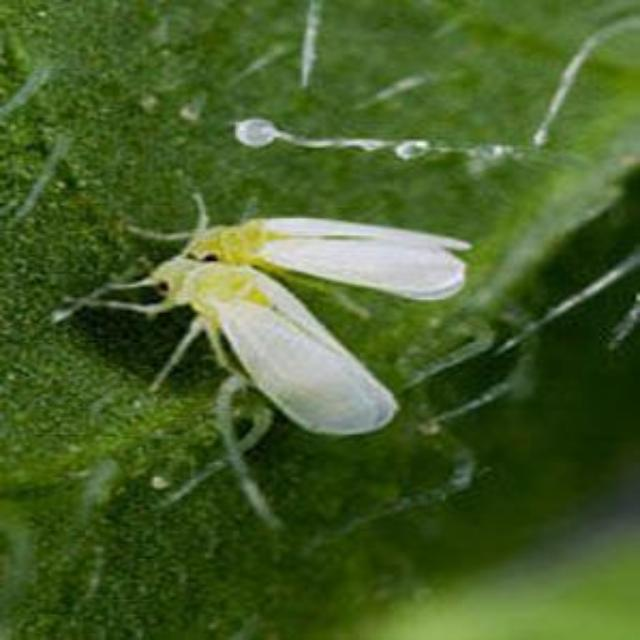Silverleaf whitefly: (126, 252, 398, 478), (170, 202, 486, 308)
